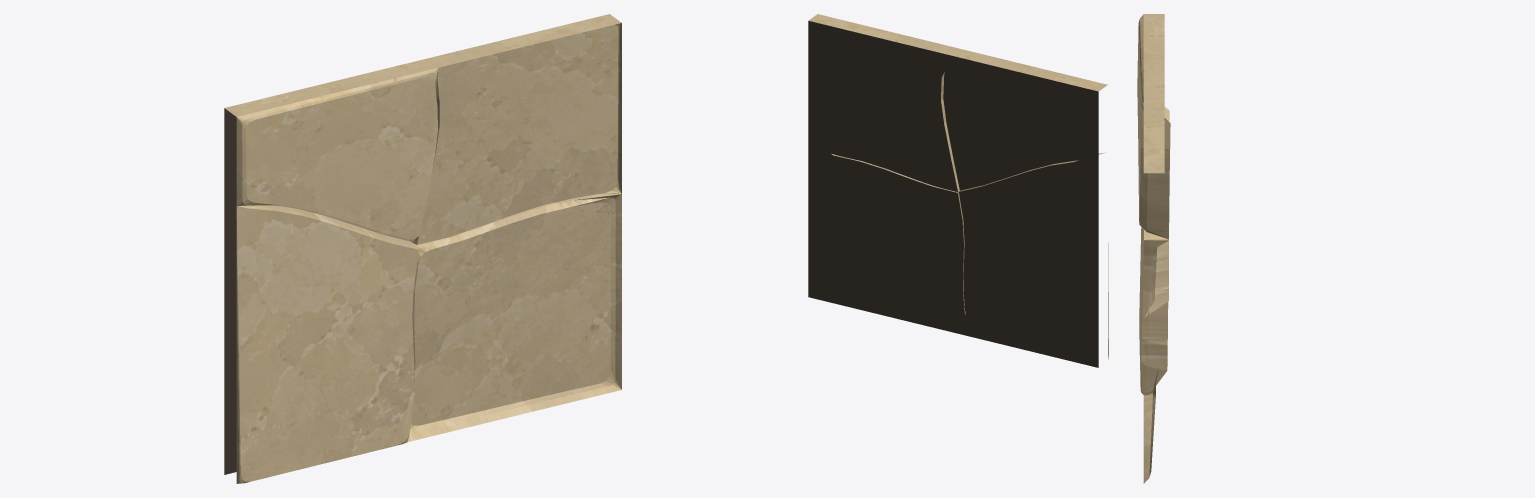
The model's file is ground_edge_04.glb.
3 renders of one model, left to right at view 1: azimuth 30°, elevation 25°; view 2: azimuth 150°, elevation 25°; view 3: azimuth 270°, elevation 25°, orthographic. The views are drawn at different scales.
Parts seen in each view (by area): view 1: GroundEdge04_Body; view 2: GroundEdge04_Body; view 3: GroundEdge04_Body.
Part boxes in pixels (bbox=[...]): GroundEdge04_Body: bbox=[224, 14, 621, 483]; GroundEdge04_Body: bbox=[808, 14, 1108, 367]; GroundEdge04_Body: bbox=[1137, 14, 1170, 483].
Size of the model in its own units: 1 by 0.91 by 1.02.
Materials: 6 (5 with a texture image).
